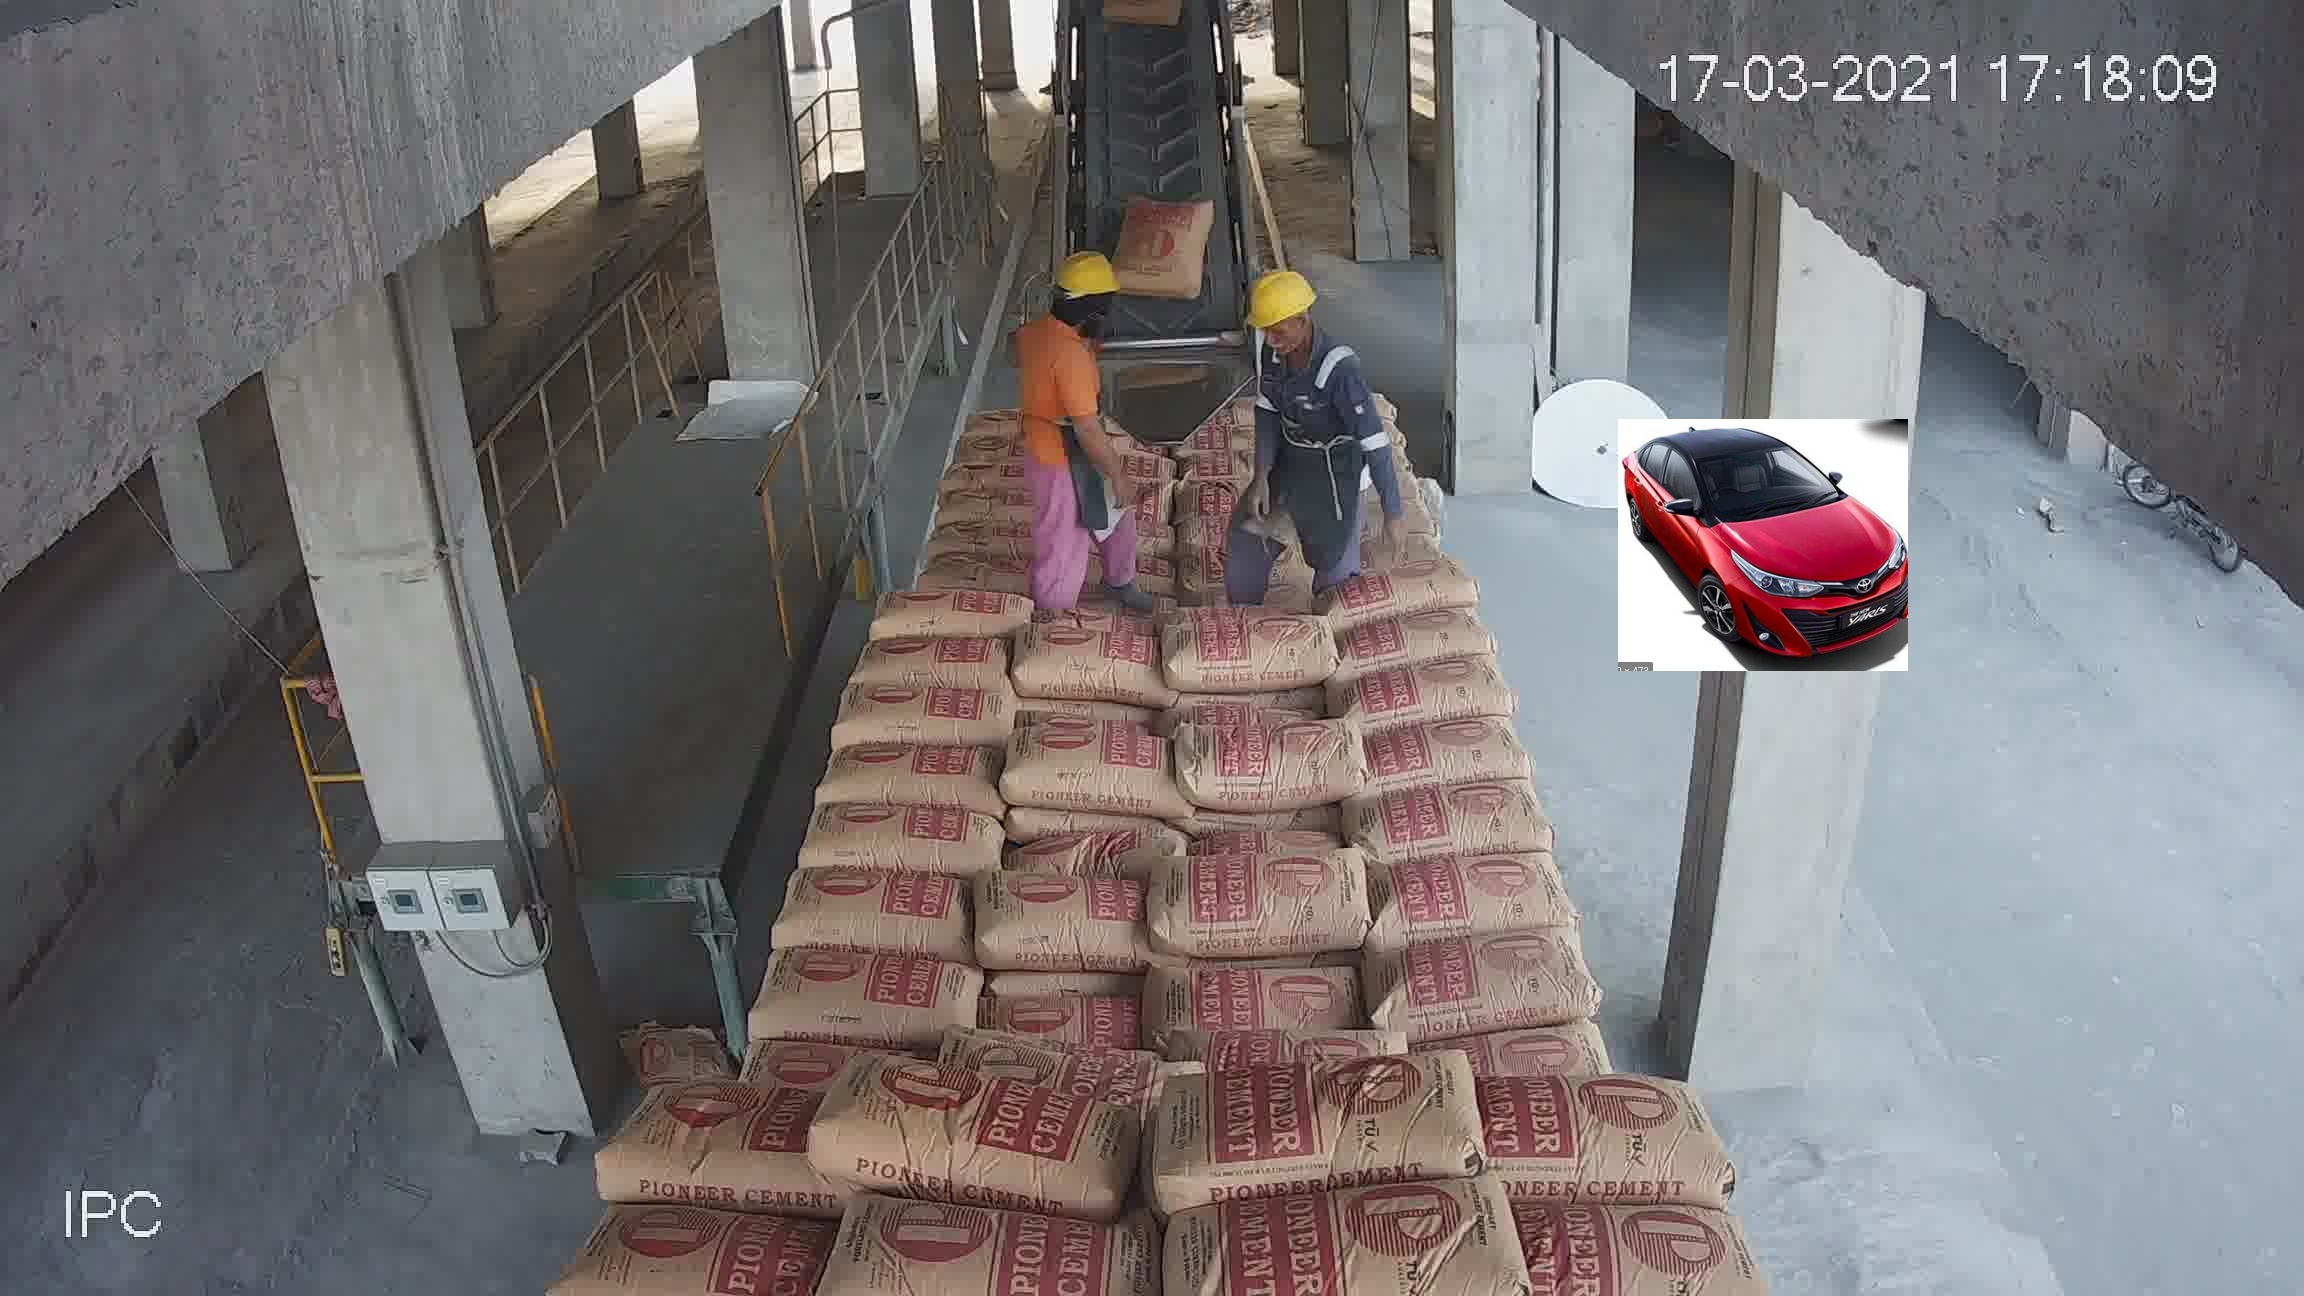bag: (1108, 199, 1207, 297)
bag_h: (1138, 1052, 1484, 1195), (817, 1067, 1135, 1207), (1478, 1070, 1744, 1207), (595, 1089, 817, 1215), (1146, 957, 1370, 1063), (1381, 923, 1593, 1032), (753, 951, 980, 1048), (1165, 855, 1380, 949), (767, 866, 978, 961), (975, 866, 1154, 976), (1366, 847, 1570, 940), (999, 722, 1188, 817), (1160, 612, 1347, 707), (1174, 725, 1367, 815), (956, 1035, 1173, 1108), (810, 737, 1014, 812), (802, 805, 1011, 873), (1010, 619, 1166, 709), (1350, 782, 1551, 851), (1356, 712, 1524, 791), (834, 684, 1019, 752), (984, 986, 1158, 1051), (1022, 824, 1192, 889), (855, 628, 1016, 696), (1328, 563, 1484, 630), (870, 581, 1038, 642), (1351, 657, 1510, 722), (1336, 601, 1491, 661), (896, 544, 1036, 590), (910, 519, 1041, 559), (938, 492, 1036, 541), (934, 456, 1027, 495)
belt: (1048, 9, 1252, 369)
